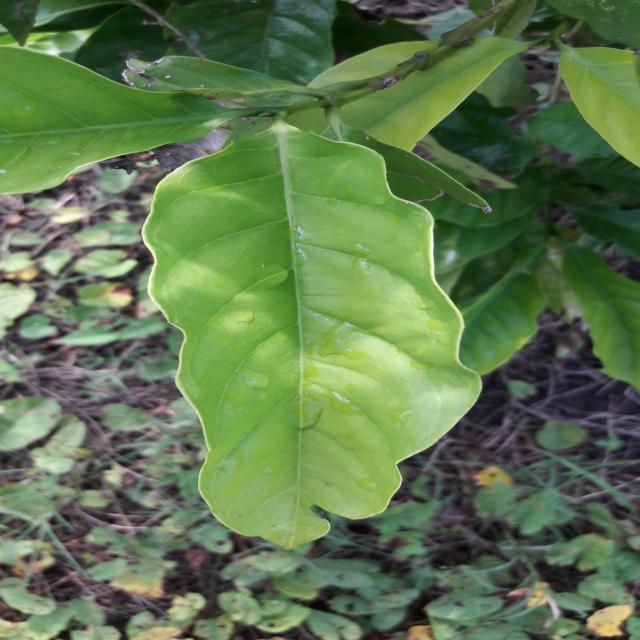Sanas: (142, 125, 483, 553)
